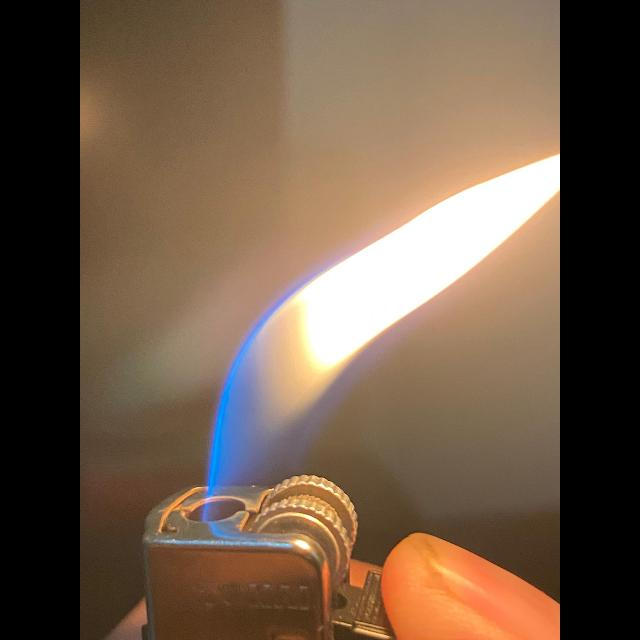fire: (205, 152, 560, 498)
